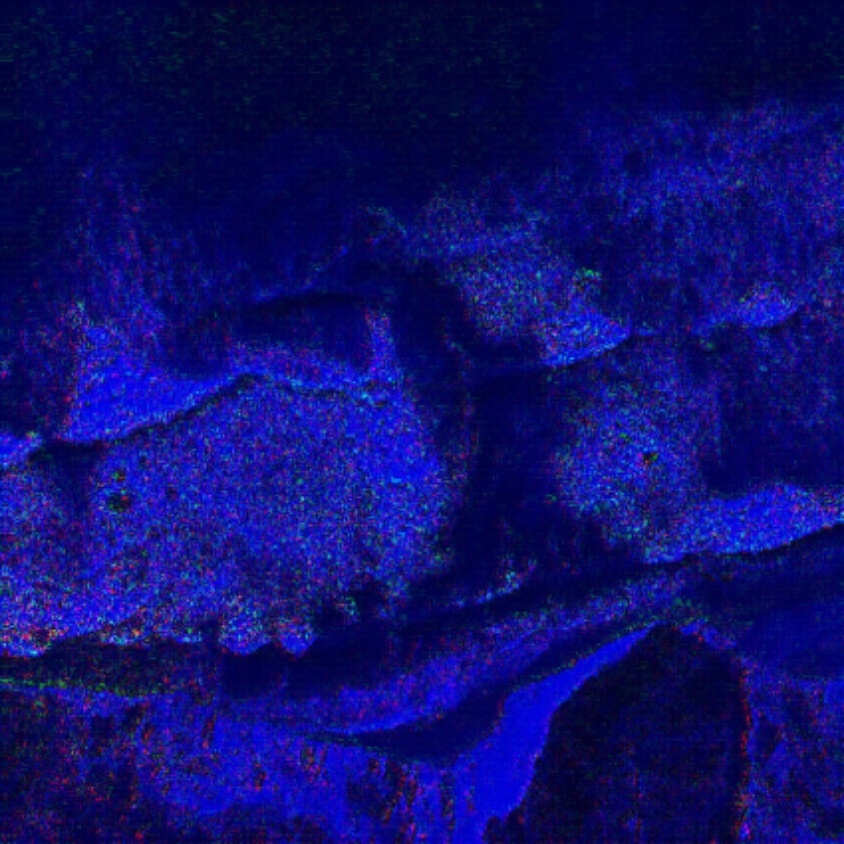rip_current: (254, 135, 619, 592)
